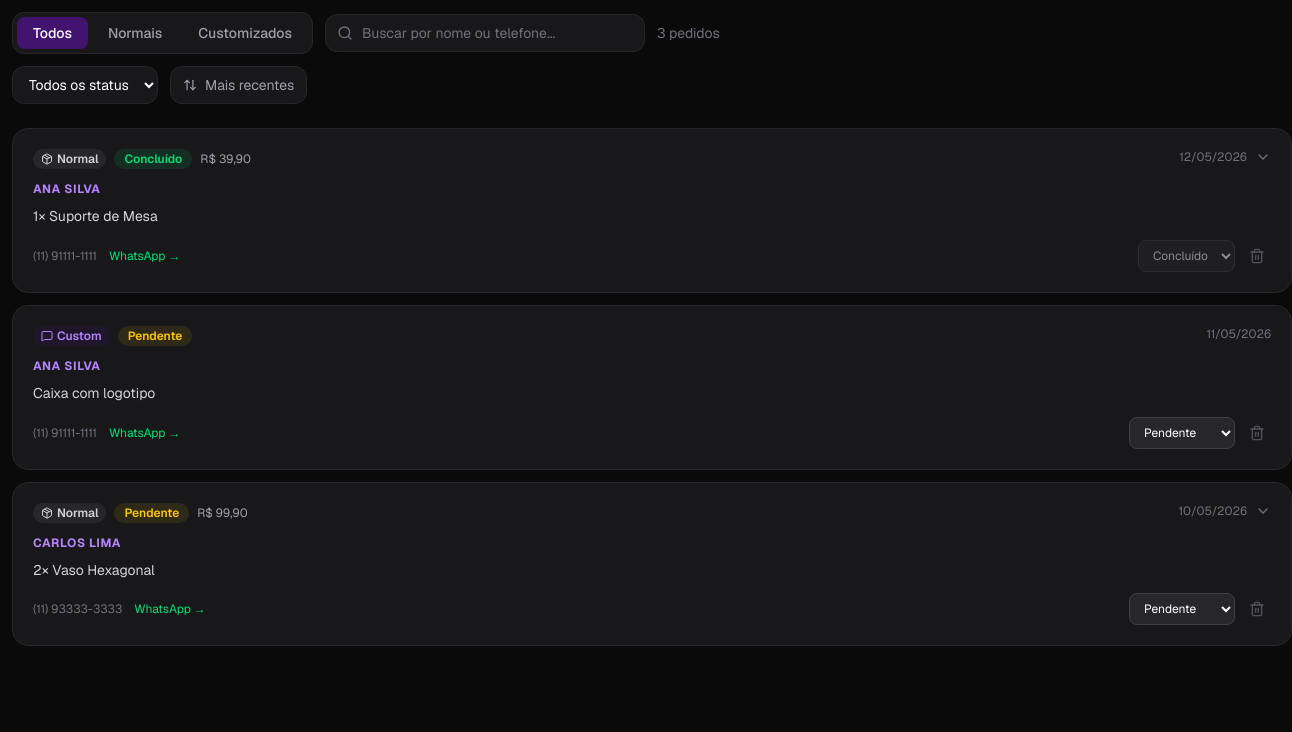
Test case: OrdersPanel › filters by customer name search
The image size is (1292, 732).
Type "Carlos" into the search field with placeholder "Buscar por nome ou telefone..." at (485, 33), box [325,14,645,52]
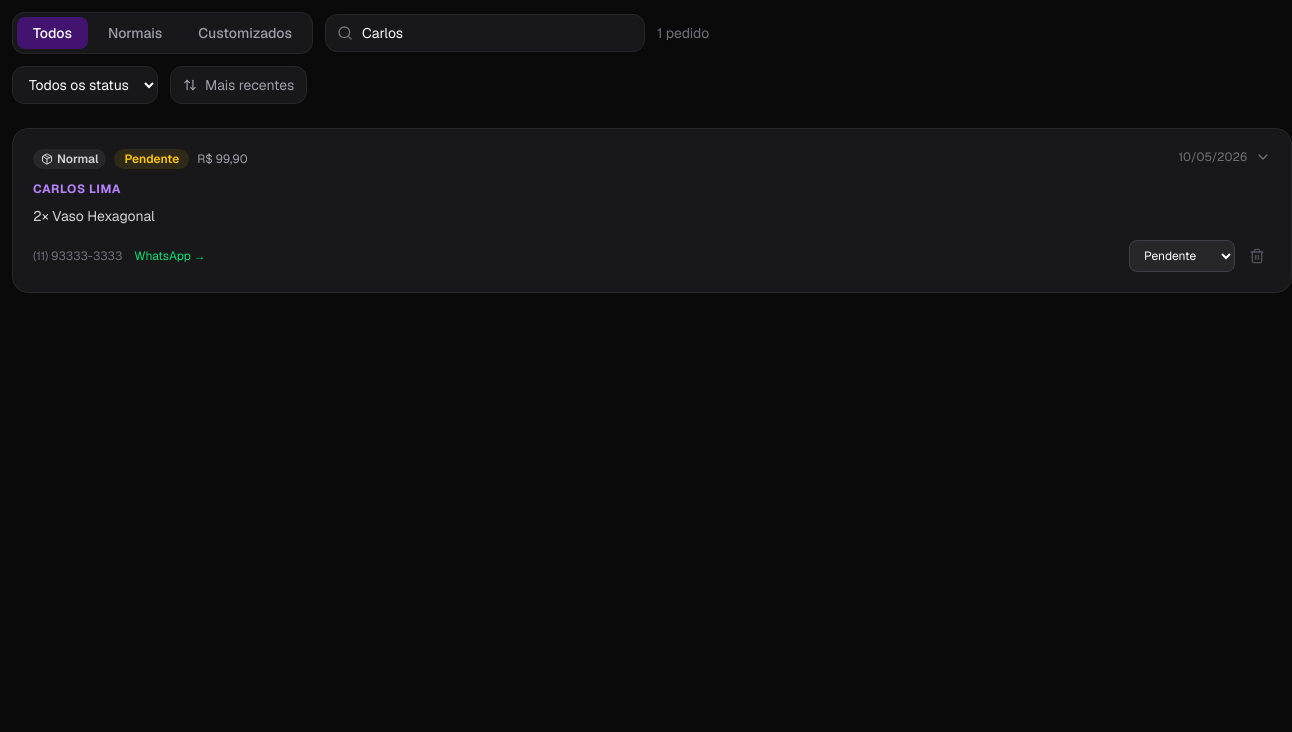
Expected: the text "2× Vaso Hexagonal" is shown, [33,207,155,225]
Result: the text "Caixa com logotipo" is gone
